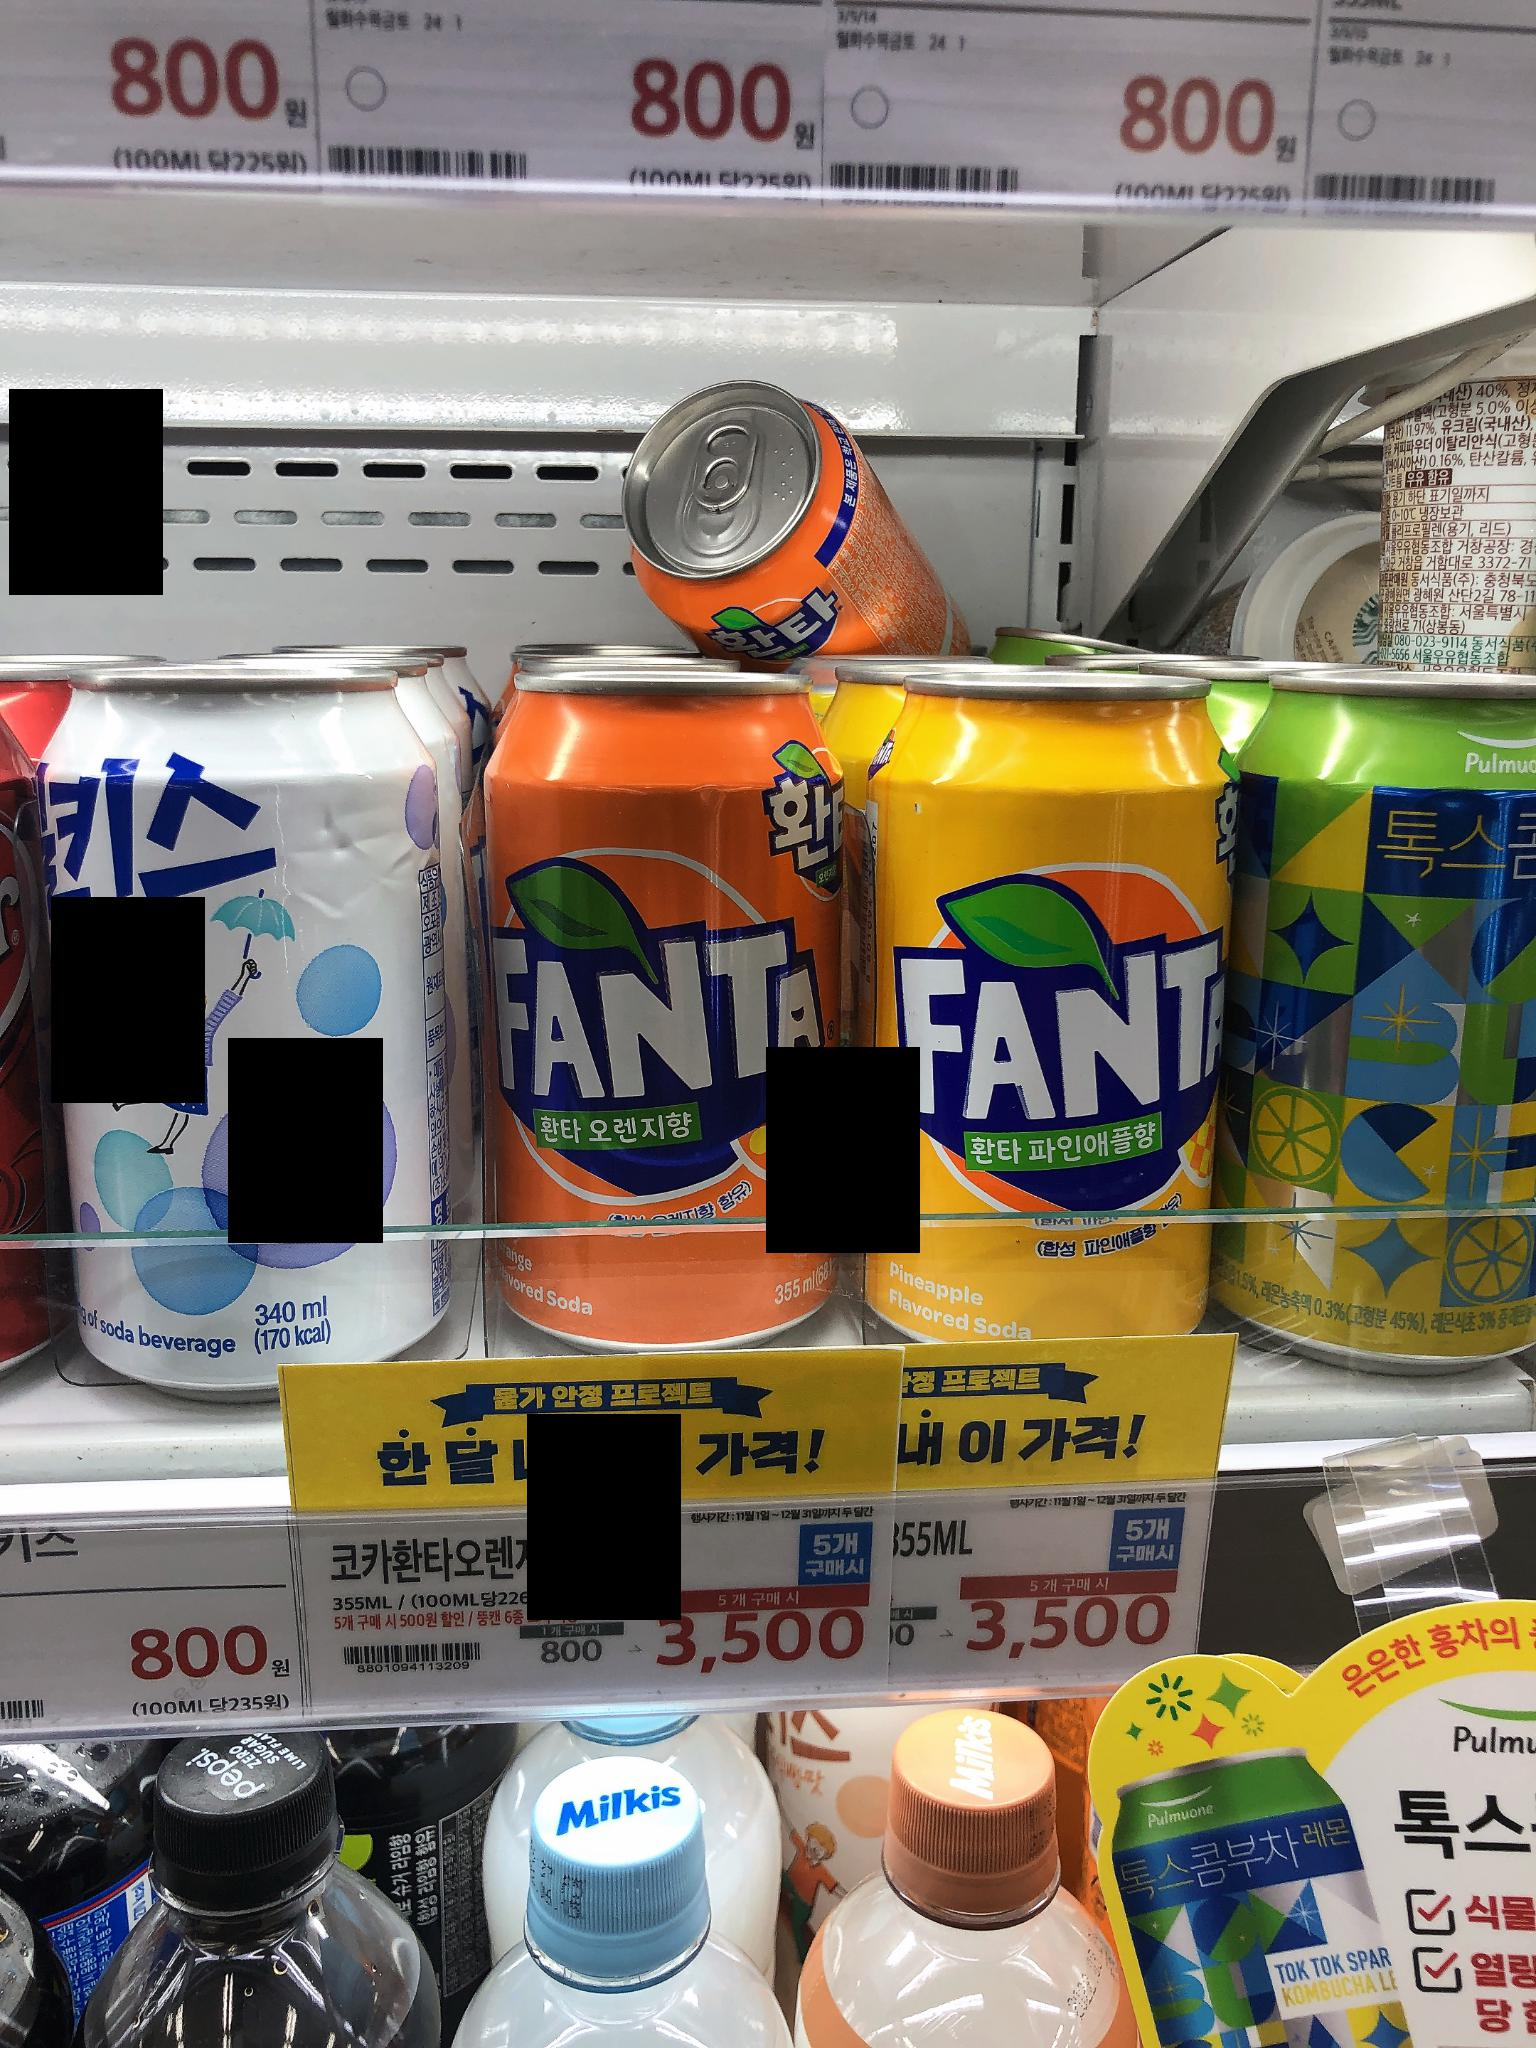fanta_orange: (458, 647, 862, 1372)
